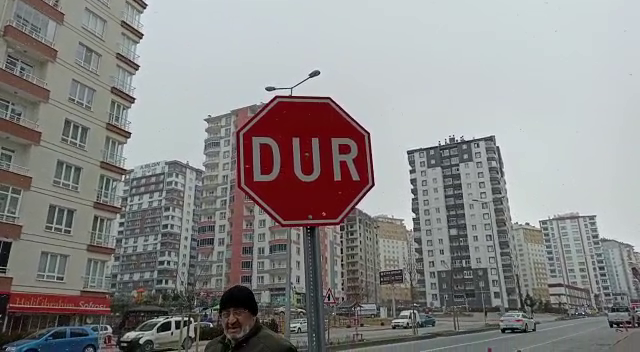stop: (234, 94, 377, 230)
